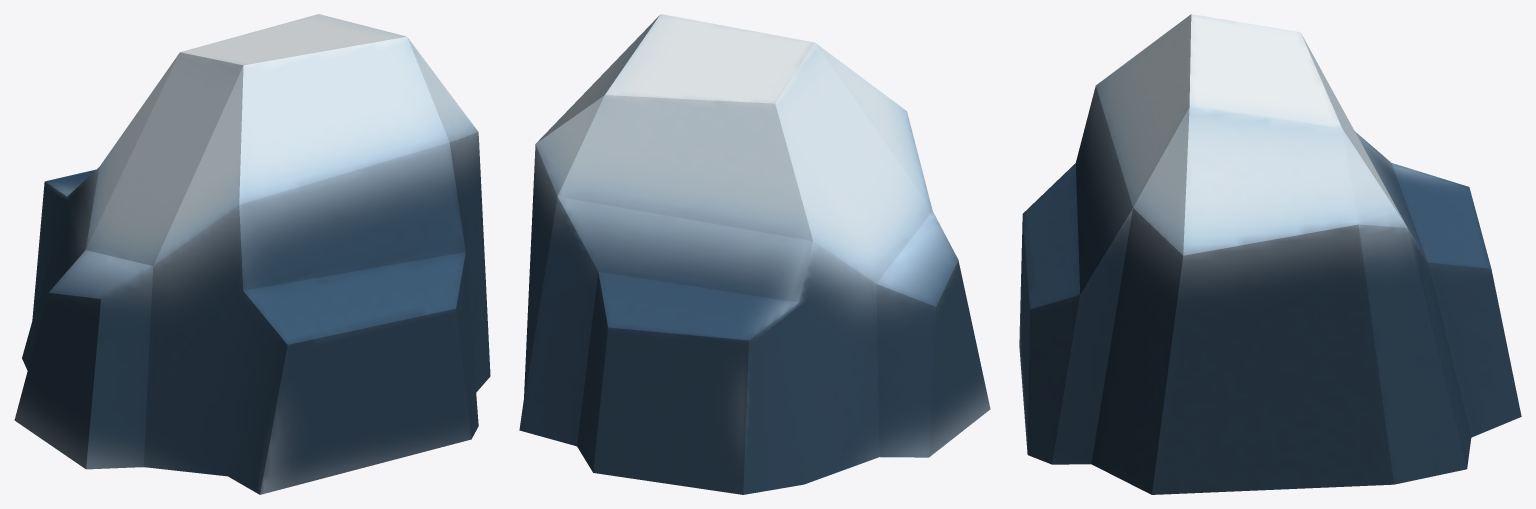
Rendered from Rock_5.fbx.
3 renders of one model, left to right at view 1: azimuth 30°, elevation 25°; view 2: azimuth 150°, elevation 25°; view 3: azimuth 270°, elevation 25°, orthographic. The views are drawn at different scales.
Visible parts, largest first — view 1: Rock_5; view 2: Rock_5; view 3: Rock_5.
Part boxes in pixels (left/top/right/bottom): Rock_5: left=14, top=14, right=490, bottom=494; Rock_5: left=519, top=14, right=990, bottom=494; Rock_5: left=1019, top=14, right=1521, bottom=494.
Bounding box in the file's own units: 0.8439 × 0.7015 × 0.8734.
